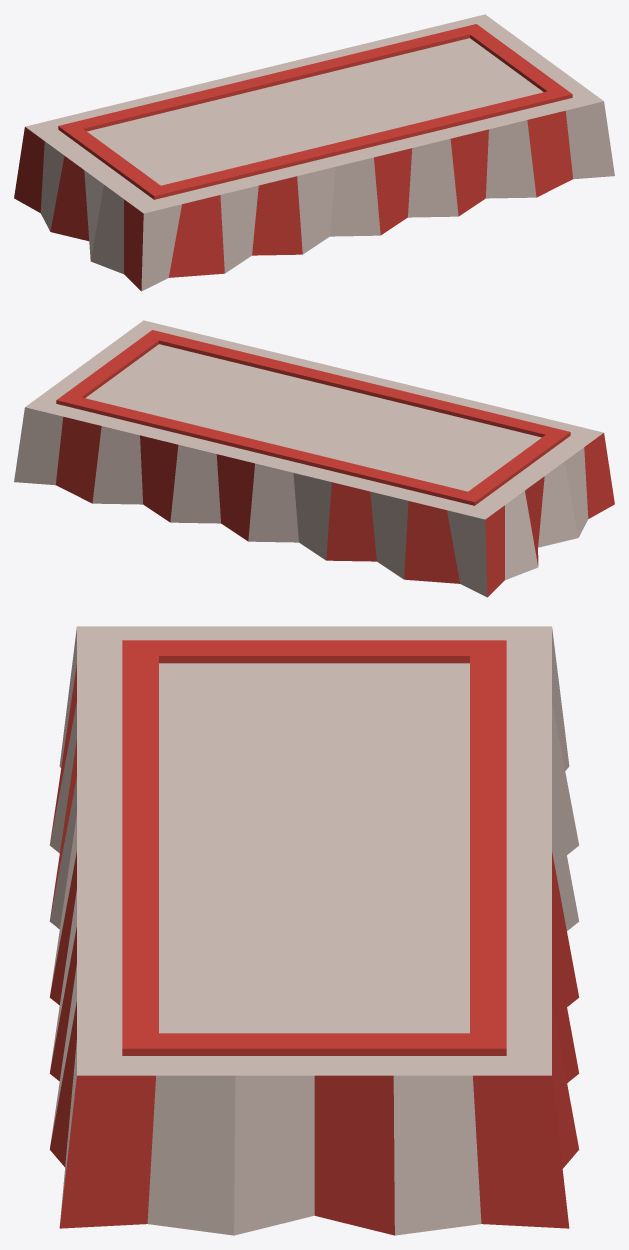
The model's file is MagicTablecloth.fbx.
3 views of the same model, one above another, from view 1: azimuth 30°, elevation 25°; view 2: azimuth 150°, elevation 25°; view 3: azimuth 270°, elevation 25° (orthographic). The views are drawn at different scales.
Visible parts, largest first — view 1: MagicTablecloth; view 2: MagicTablecloth; view 3: MagicTablecloth.
Boxes of the visible parts, x1,y1,x2,y2 form: MagicTablecloth: (14, 14, 614, 291); MagicTablecloth: (14, 320, 614, 597); MagicTablecloth: (49, 626, 579, 1235).
Bounding box in the file's own units: 486 × 73.25 × 228.
